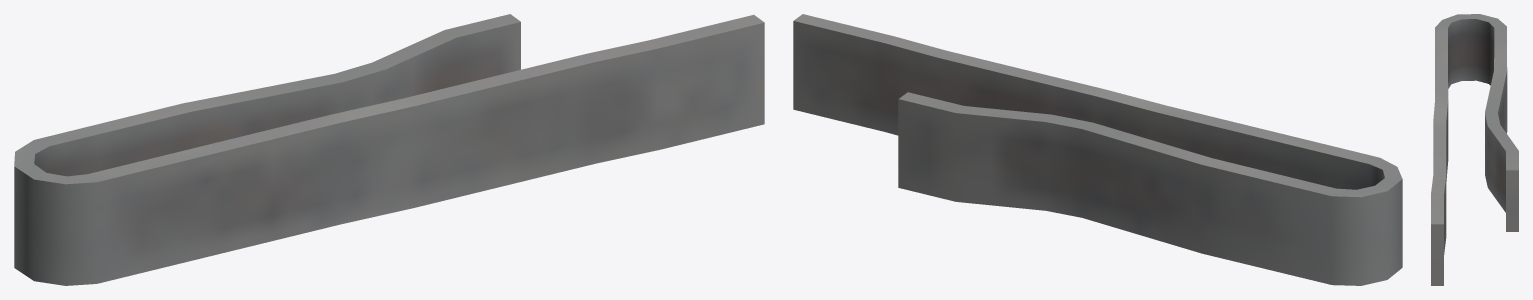
File: SM_RageBull_01h.fbx
3 renders of one model, left to right at view 1: azimuth 30°, elevation 25°; view 2: azimuth 150°, elevation 25°; view 3: azimuth 270°, elevation 25°, orthographic. The views are drawn at different scales.
Visible parts, largest first — view 1: SM_RageBull_01h_LOD0; view 2: SM_RageBull_01h_LOD0; view 3: SM_RageBull_01h_LOD0.
Boxes of the visible parts, bbox=[...] form: SM_RageBull_01h_LOD0: bbox=[14, 14, 764, 285]; SM_RageBull_01h_LOD0: bbox=[793, 14, 1402, 285]; SM_RageBull_01h_LOD0: bbox=[1431, 14, 1518, 285].
Bounding box in the file's own units: 2.38 × 0.4212 × 0.3261.
